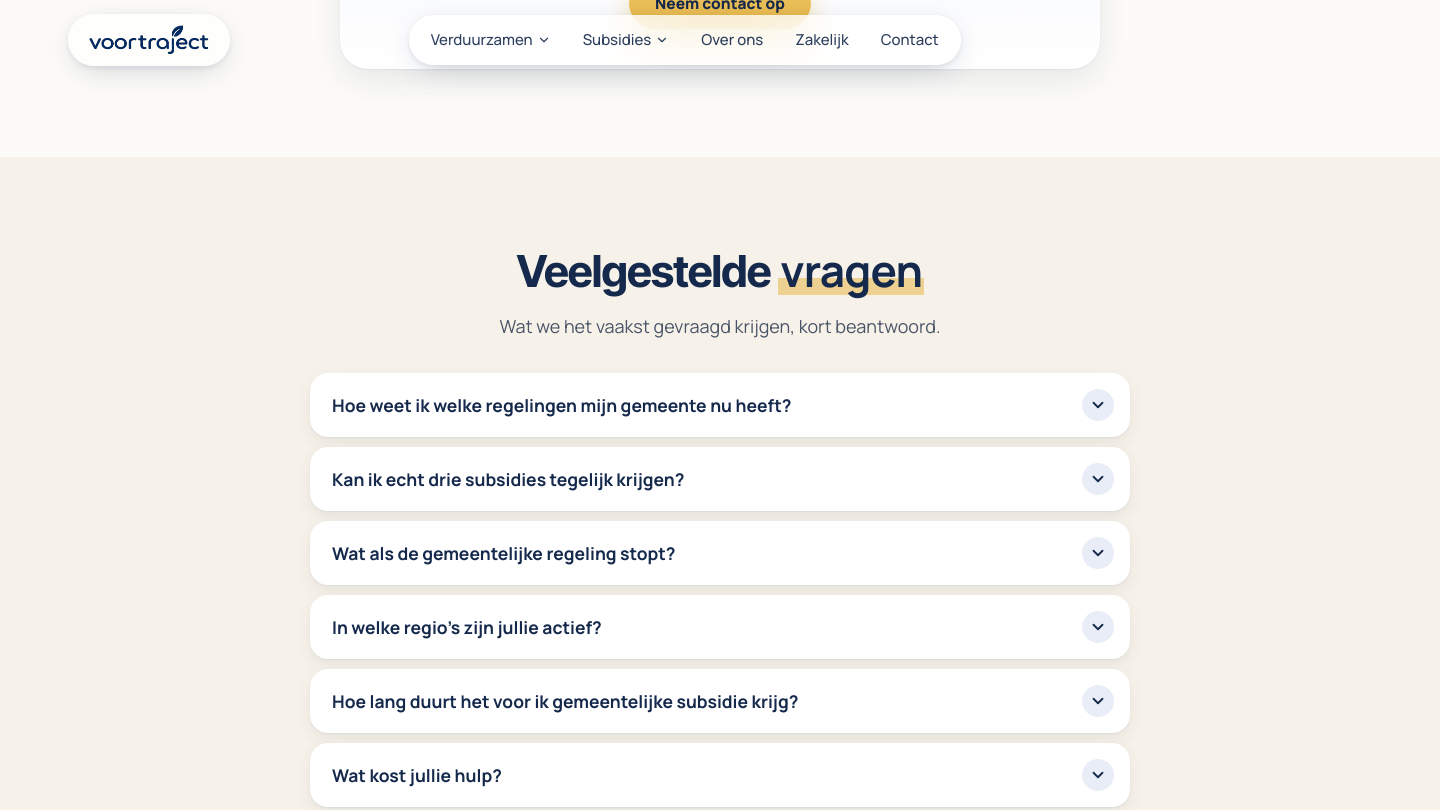
/subsidies/regionaal › opent één vraag tegelijk in de FAQ
(page scrolled)
Click the button "Hoe weet ik welke regelingen mijn gemeente nu heeft?": point(720, 405) [310,373,1130,437]
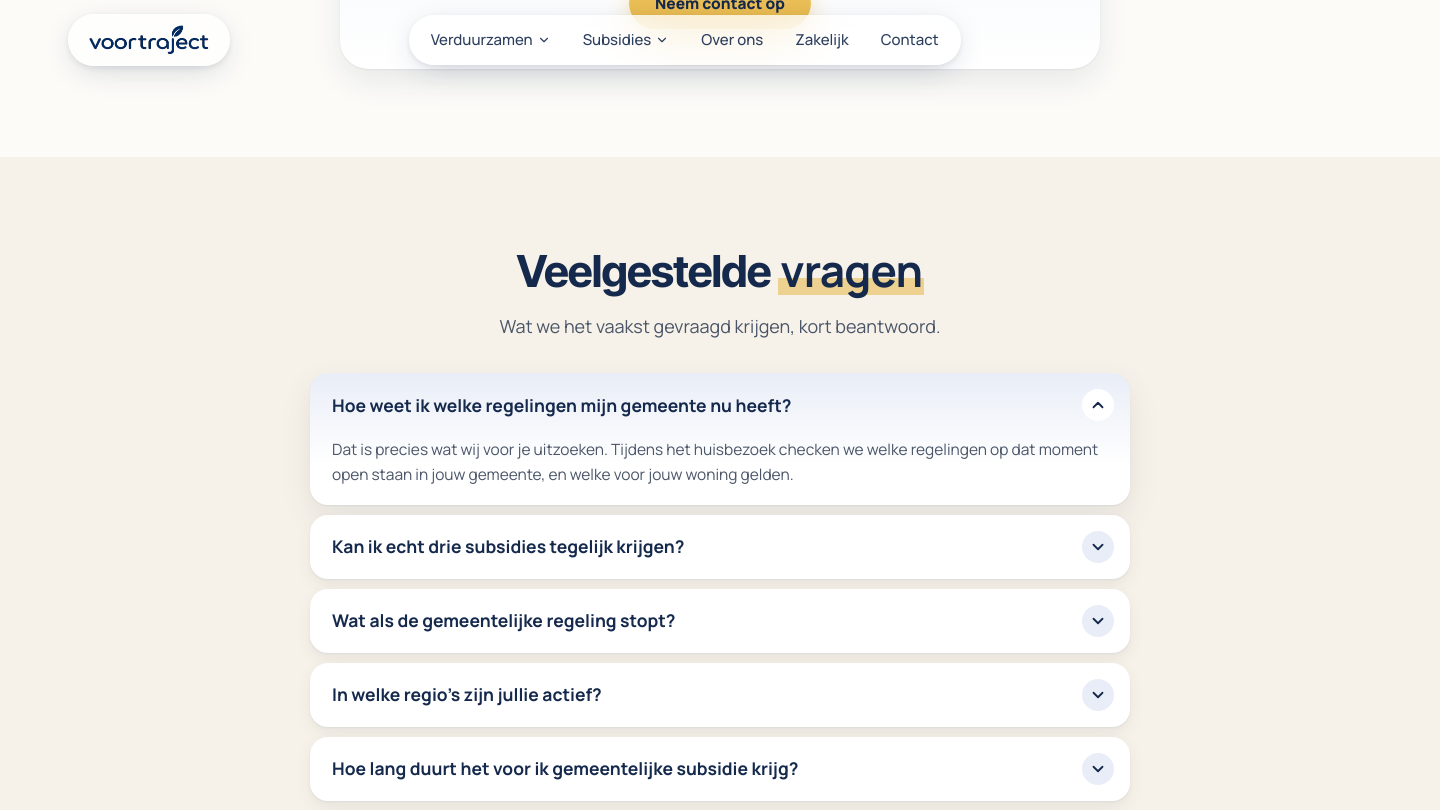
Check: the button "Hoe weet ik welke regelingen mijn gemeente nu heeft?" is expanded, box [310,373,1130,437]
Click the button "Kan ik echt drie subsidies tegelijk krijgen?": point(508, 546) [310,515,1130,579]
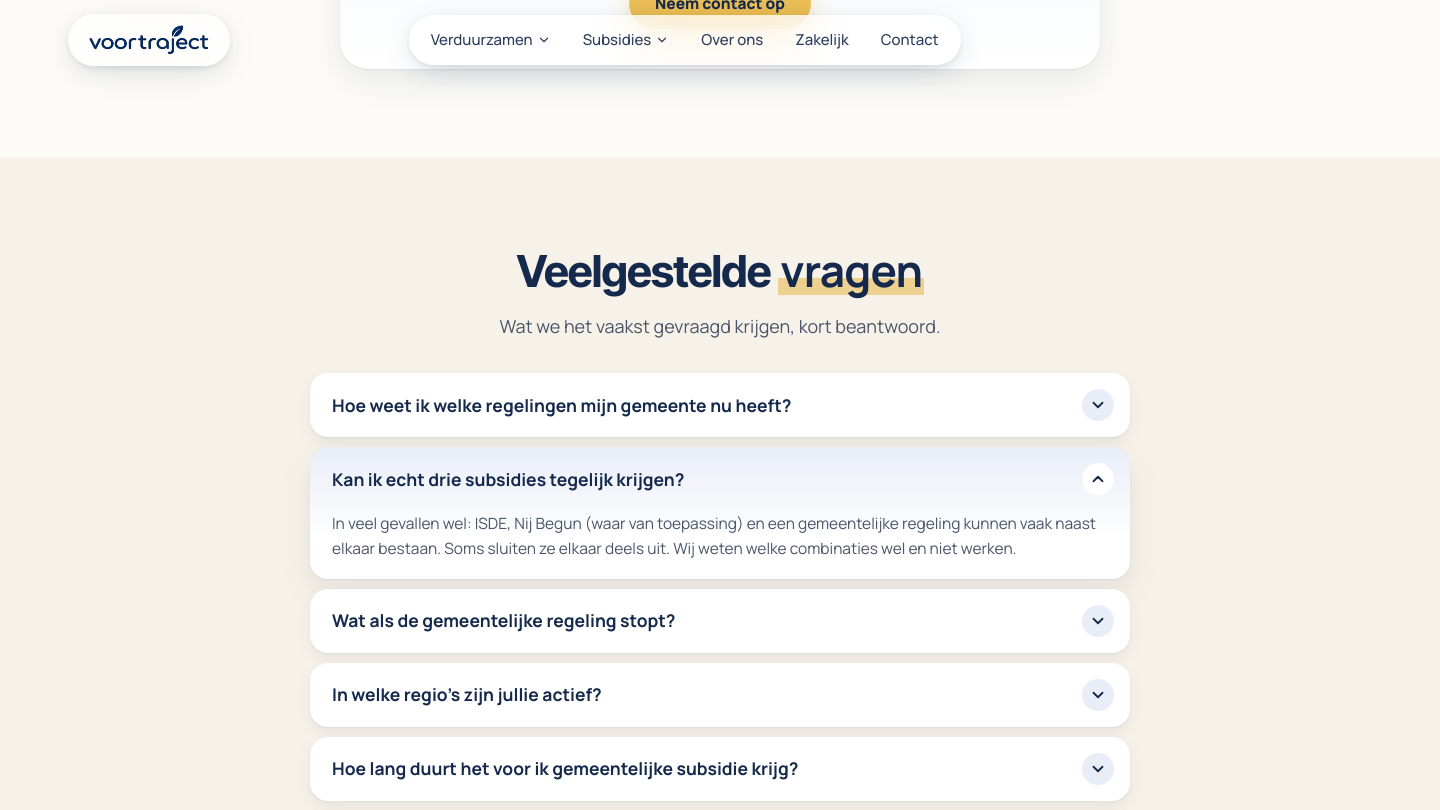
Check: the button "Hoe weet ik welke regelingen mijn gemeente nu heeft?" is collapsed, box [310,373,1130,437]
Check: the button "Kan ik echt drie subsidies tegelijk krijgen?" is expanded
Click the button "Kan ik echt drie subsidies tegelijk krijgen?": point(508, 479) [310,447,1130,511]
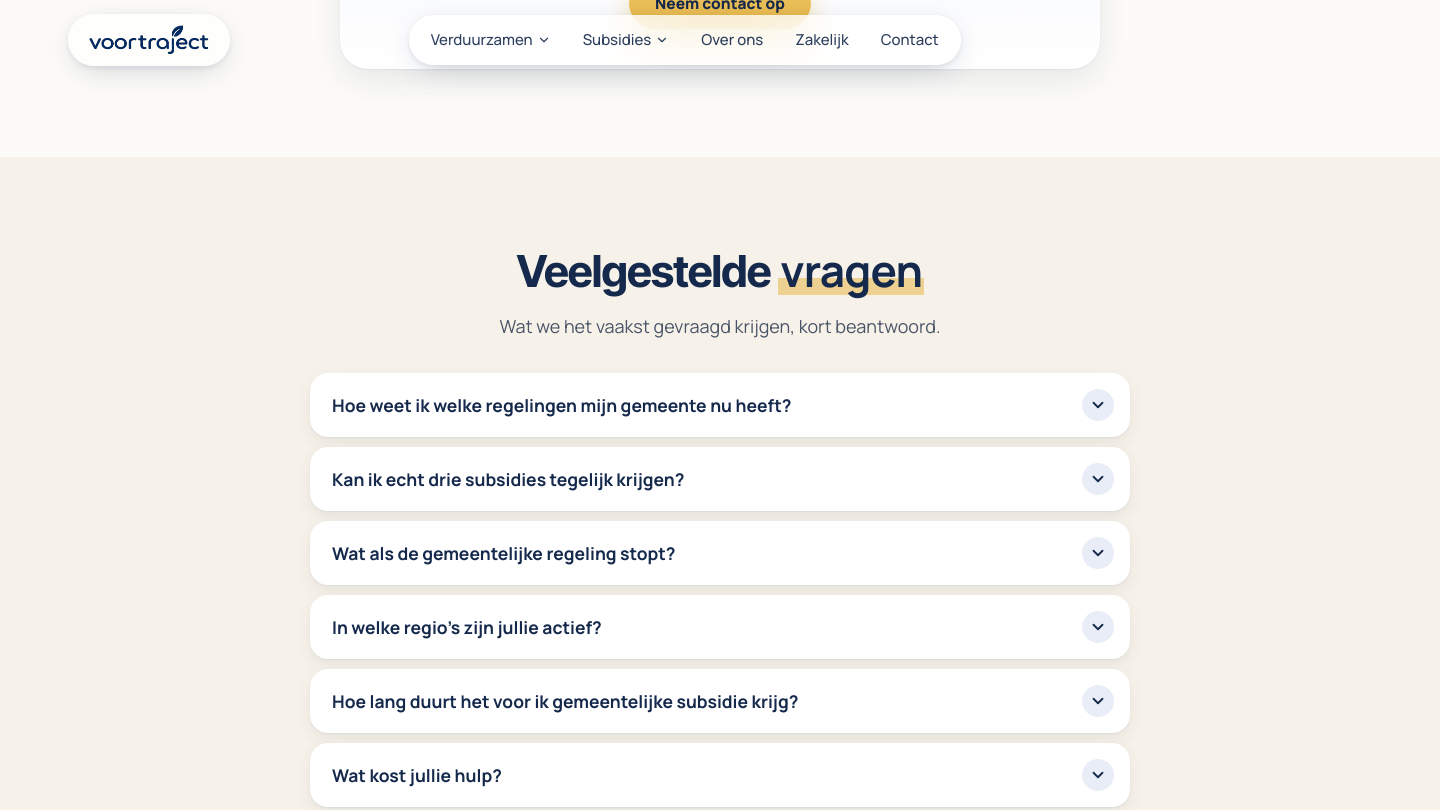
Check: the button "Kan ik echt drie subsidies tegelijk krijgen?" is collapsed, box [310,447,1130,511]
